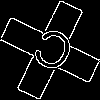C: (25, 25, 78, 83)
